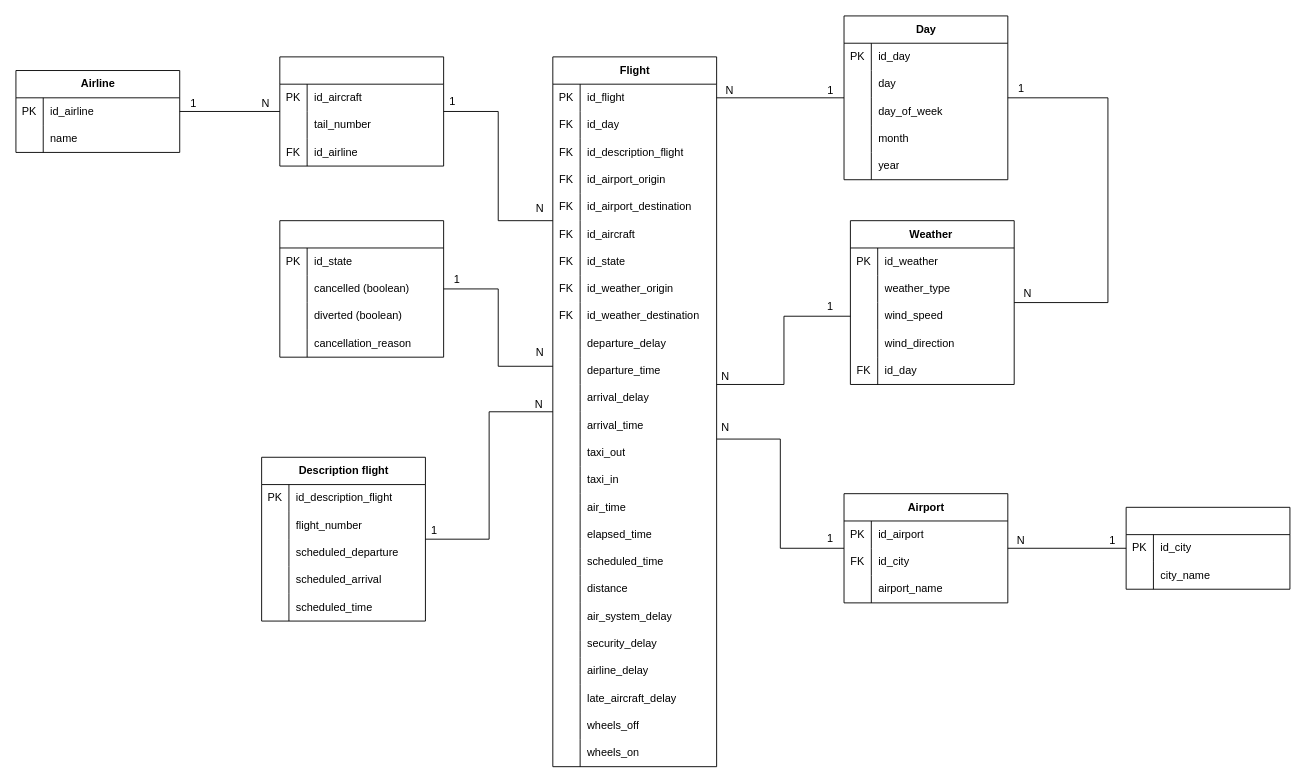
Image size: 1306x783. Some labels were removed from this diagram. The box of each missing label's shape, as (x1, y1, x2, y2) in pixels:
Aicraft: (279, 56, 444, 166)
CIty Airport: (1125, 506, 1290, 589)
State flight: (279, 220, 444, 357)
